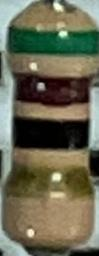Black: (13, 117, 89, 151)
Brown: (13, 71, 93, 103)
Green: (6, 22, 99, 56)
Side-Gold: (0, 163, 93, 198)
